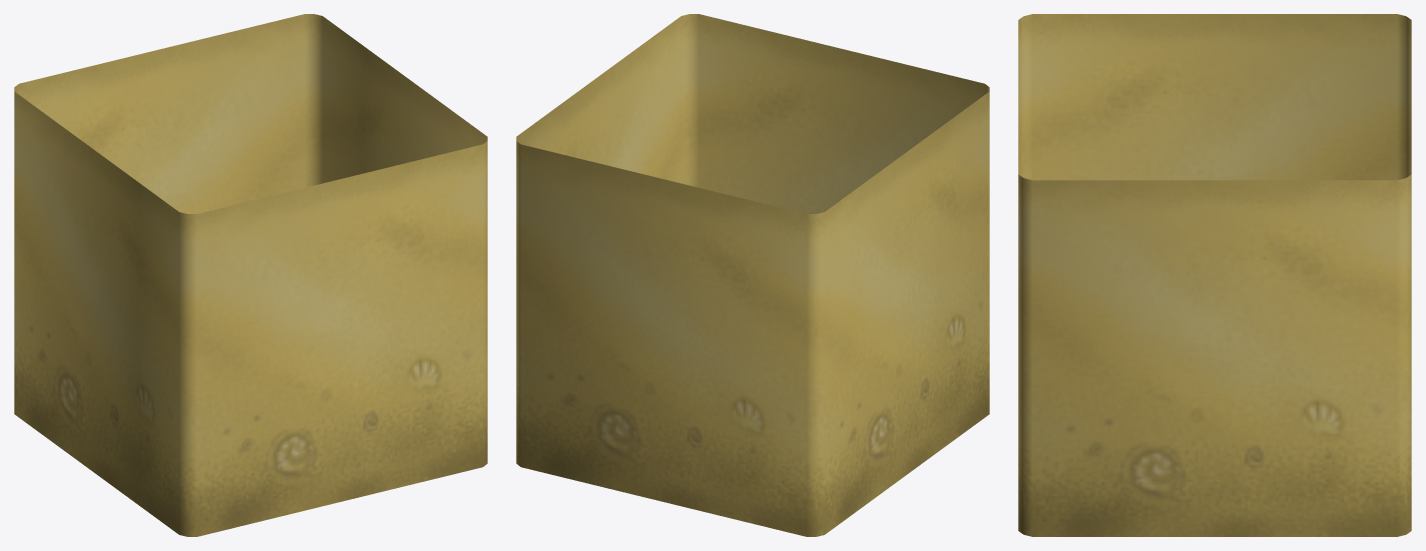
File: Block_Rounded_Sand.fbx
3 views of the same model, side by side, from view 1: azimuth 30°, elevation 25°; view 2: azimuth 150°, elevation 25°; view 3: azimuth 270°, elevation 25° (orthographic). The views are drawn at different scales.
Parts seen in each view (by area): view 1: Block_Rounded_Sand; view 2: Block_Rounded_Sand; view 3: Block_Rounded_Sand.
Boxes of the visible parts, x1=… form: Block_Rounded_Sand: x1=14, y1=14, x2=487, y2=536; Block_Rounded_Sand: x1=516, y1=14, x2=989, y2=536; Block_Rounded_Sand: x1=1018, y1=14, x2=1411, y2=536.
Size of the model in its own units: 100 by 100 by 100.
